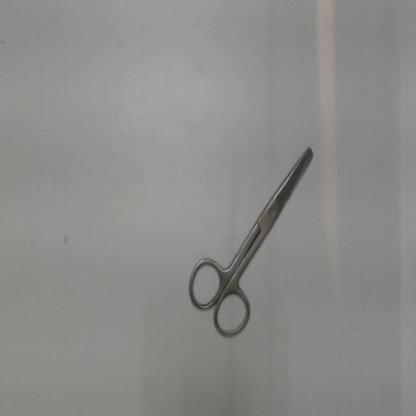Dressing Scissors: (181, 136, 326, 350)
